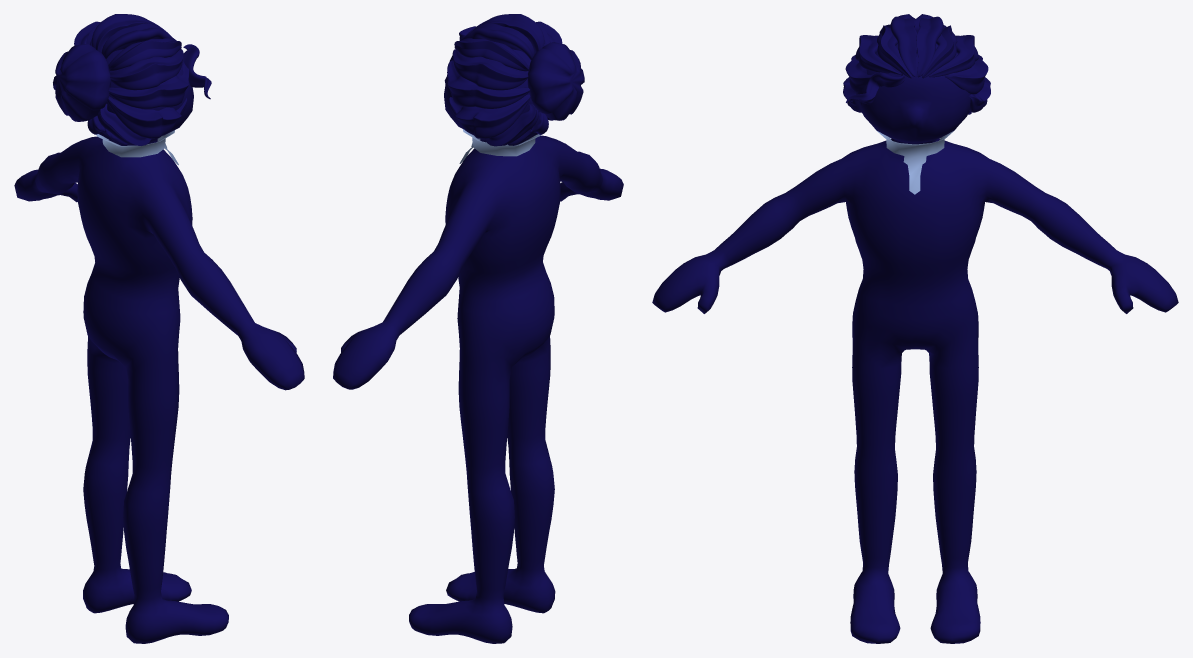
File: HeadofHousehold.fbx
3 views of the same model, side by side, from view 1: azimuth 30°, elevation 25°; view 2: azimuth 150°, elevation 25°; view 3: azimuth 270°, elevation 25° (orthographic). The views are drawn at different scales.
Visible parts, largest first — view 1: BézierCurve.002; view 2: BézierCurve.002; view 3: BézierCurve.002.
Part boxes in pixels (x1,y1,x2,y2): BézierCurve.002: (14, 14, 304, 643); BézierCurve.002: (333, 14, 623, 643); BézierCurve.002: (652, 14, 1178, 643).
Size of the model in its own units: 47.61 by 185 by 149.
